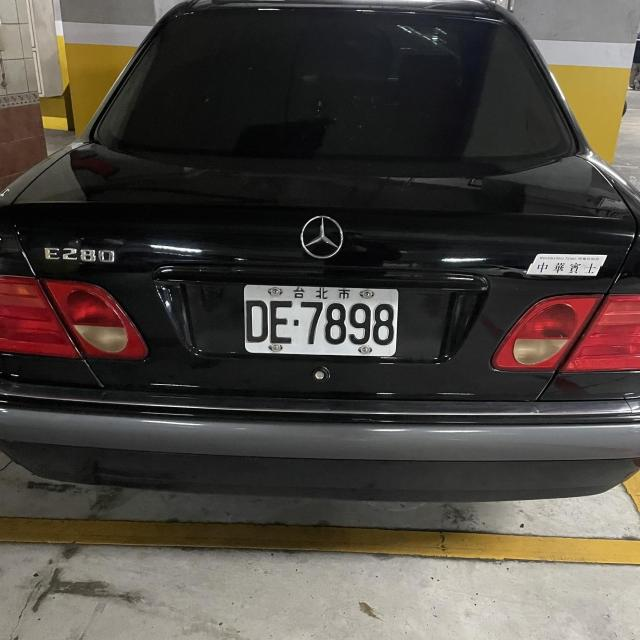W: (240, 280, 404, 357)
